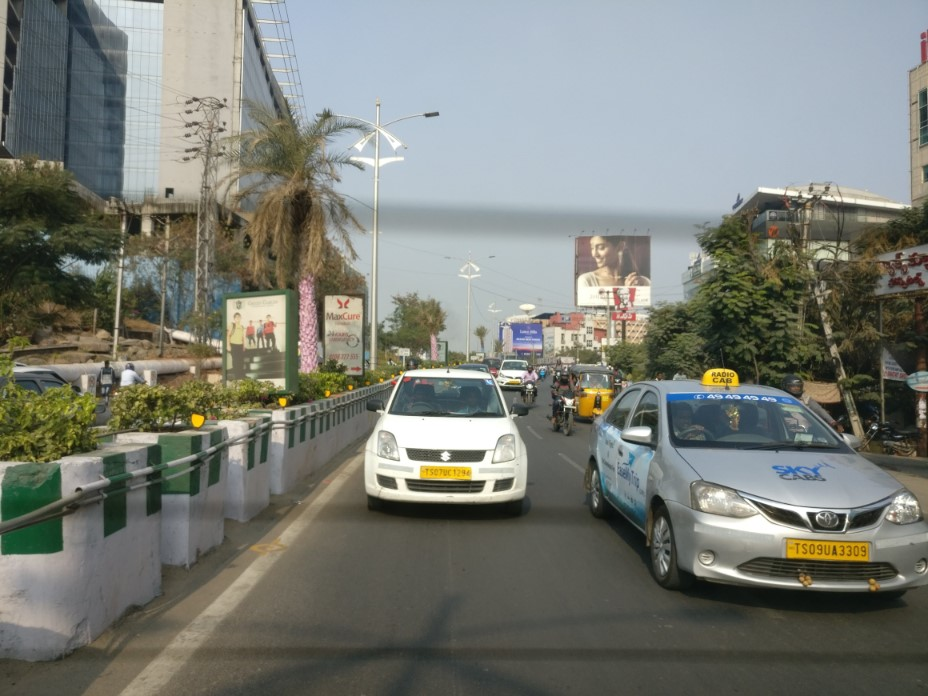swift desire: (364, 372, 530, 504)
